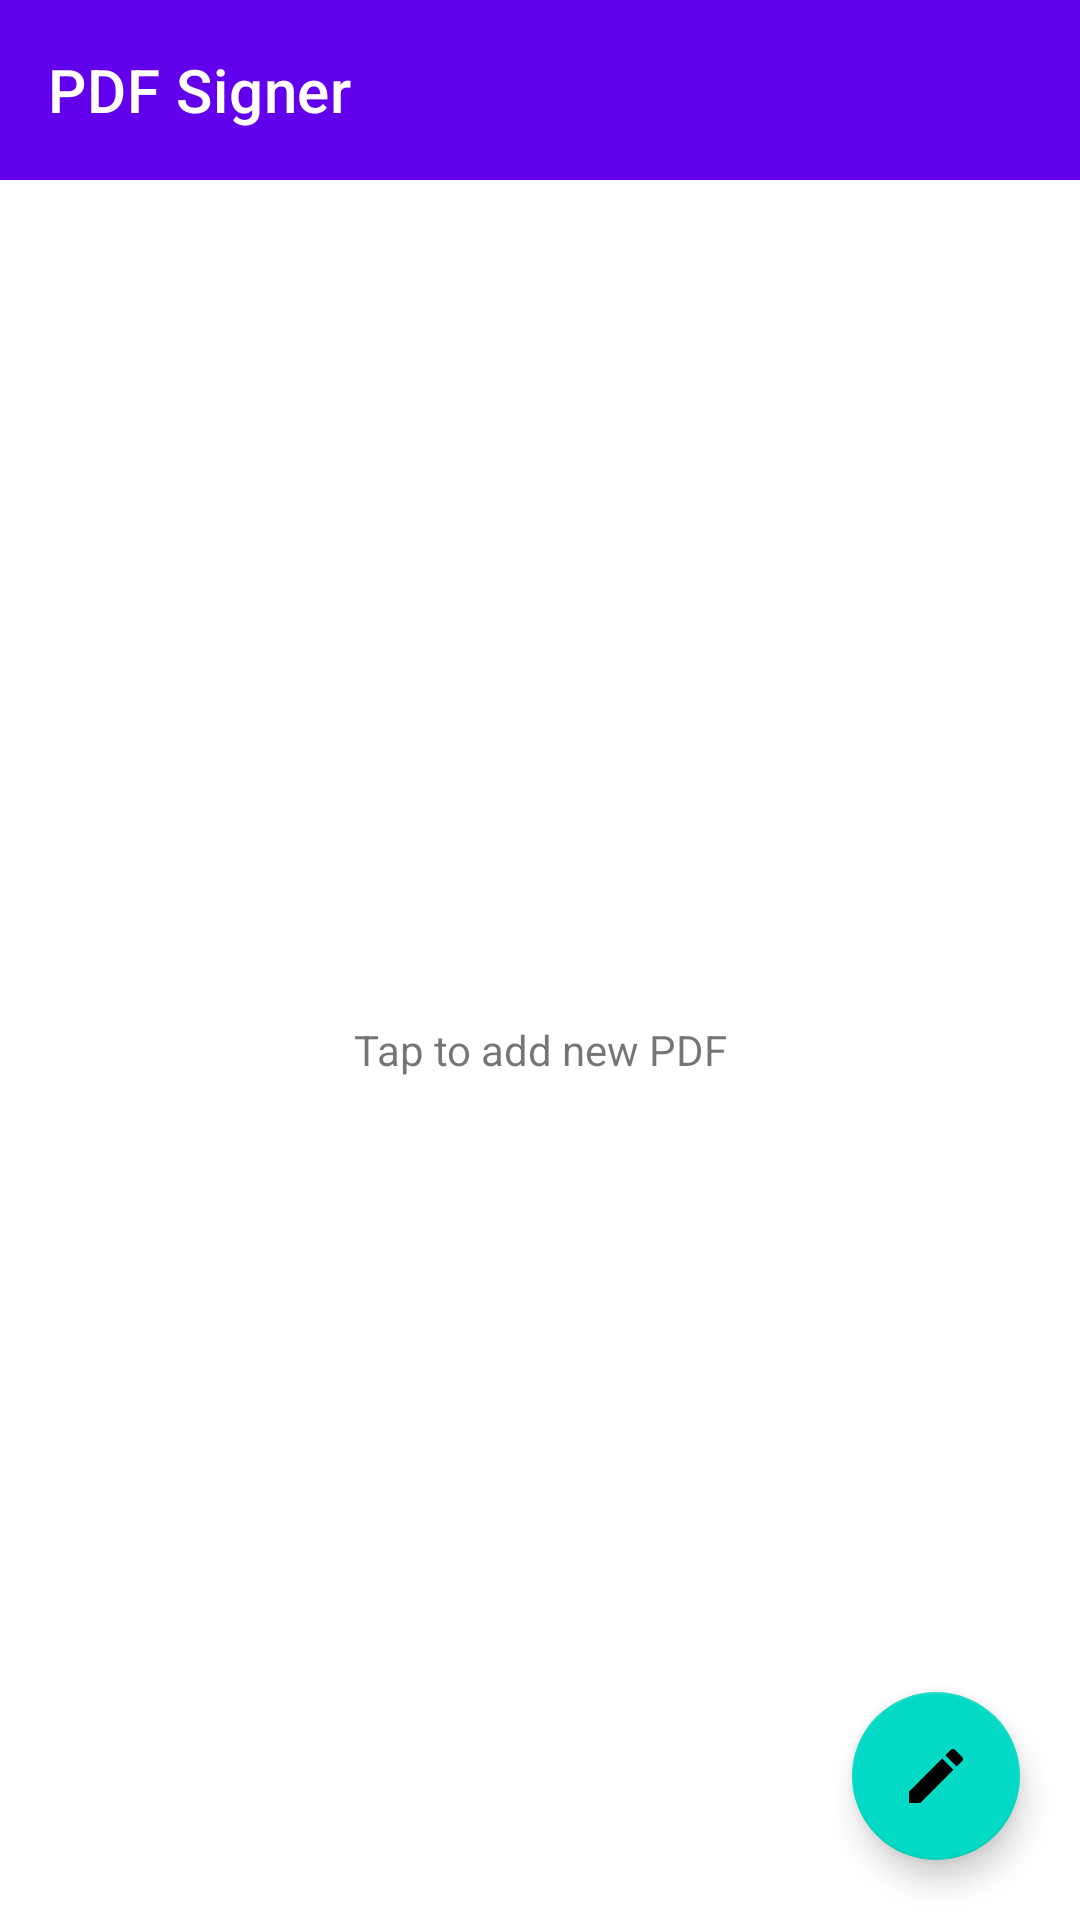

Icon bounding boxes for this 1080px x 1920px phone screenshot, format box=[x1, y1, x2, y2]:
Click to open the signature list: box=[852, 1692, 1020, 1860]
